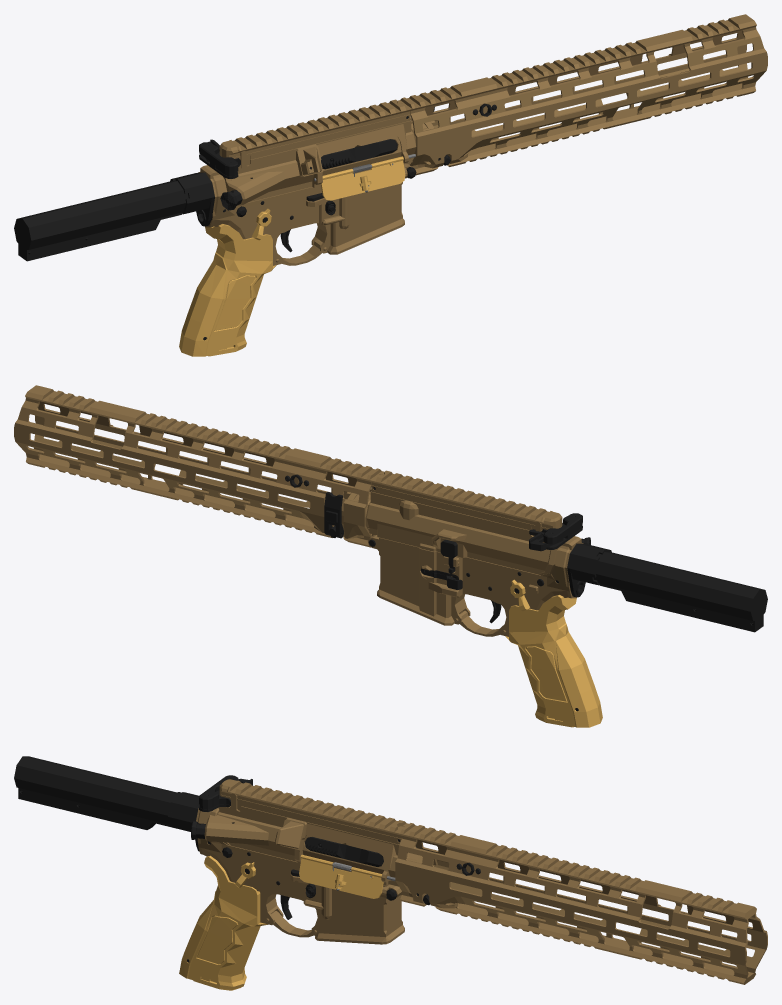
The picture shows the model from 3 angles, top to bottom: view 1: azimuth 30°, elevation 25°; view 2: azimuth 150°, elevation 25°; view 3: azimuth 330°, elevation 25°; orthographic projection.
Visible parts, largest first — view 1: g95 handguard_13, g95 lower_4 (×2), g95 upper_0, g95 grip_15, g95 dust cover_5, g95 bolt_7, g95 charging handle_6; view 2: g95 handguard_13 (×2), g95 lower_4 (×2), g95 upper_0, g95 grip_15, g95 charging handle_6; view 3: g95 handguard_13, g95 lower_4 (×2), g95 upper_0, g95 grip_15, g95 dust cover_5, g95 bolt_7, g95 charging handle_6.
Part boxes in pixels (x1,y1,x2,y2): g95 handguard_13: (399,14,767,175); g95 lower_4 (×2): (14,164,416,265); g95 upper_0: (219,99,435,205); g95 grip_15: (179,224,276,356); g95 dust cover_5: (320,156,405,200); g95 bolt_7: (321,139,397,169); g95 charging handle_6: (199,139,240,178); g95 handguard_13 (×2): (14,385,382,547); g95 lower_4 (×2): (368,535,767,636); g95 upper_0: (346,470,562,575); g95 grip_15: (505,595,602,727); g95 charging handle_6: (529,513,582,551); g95 handguard_13: (395,823,767,984); g95 lower_4 (×2): (14,756,404,944); g95 upper_0: (204,779,437,895); g95 grip_15: (179,855,267,990); g95 dust cover_5: (299,854,383,898); g95 bolt_7: (305,837,383,866); g95 charging handle_6: (199,775,252,811).
Size of the model in its own units: 7.16 by 1.88 by 0.7315.
